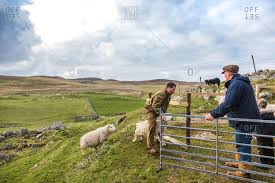sheep: (79, 123, 117, 149)
